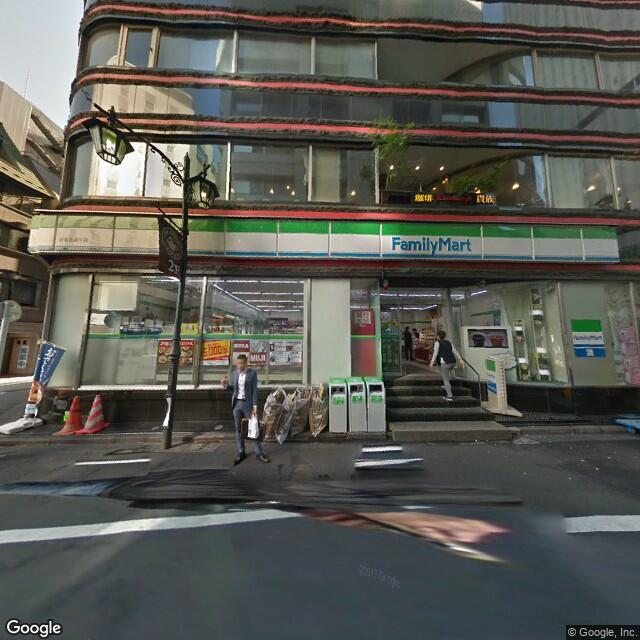family_mart: (30, 207, 623, 268), (385, 231, 477, 258), (568, 312, 606, 354), (483, 353, 499, 394)
